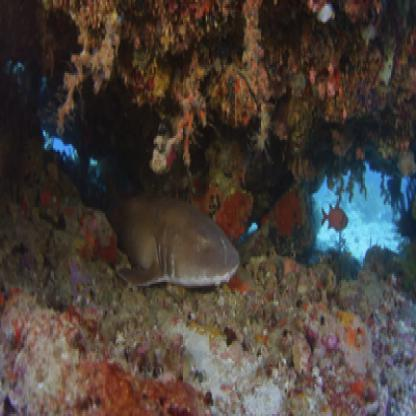shark: (84, 167, 242, 293)
